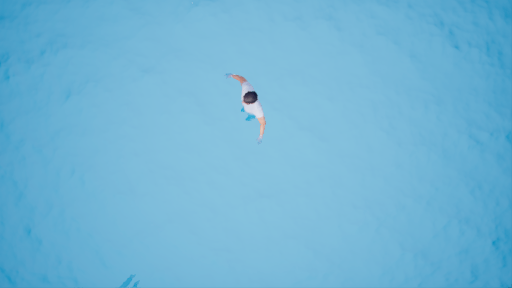person: (222, 71, 275, 144)
